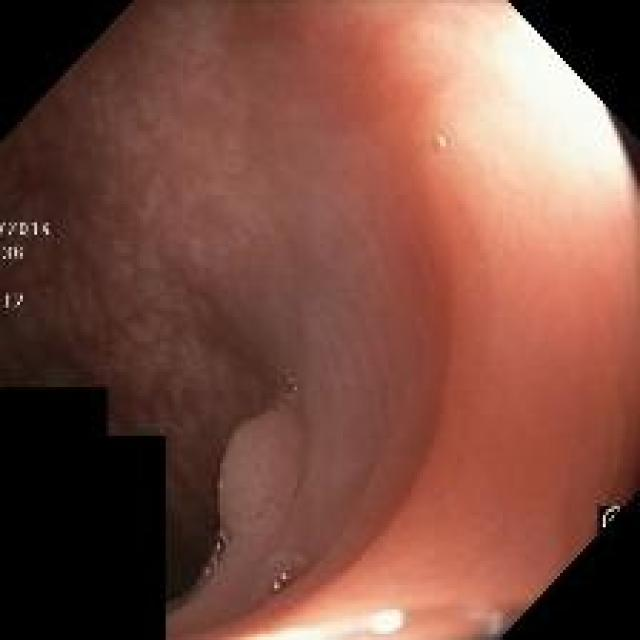Polyps: (219, 403, 306, 550)
